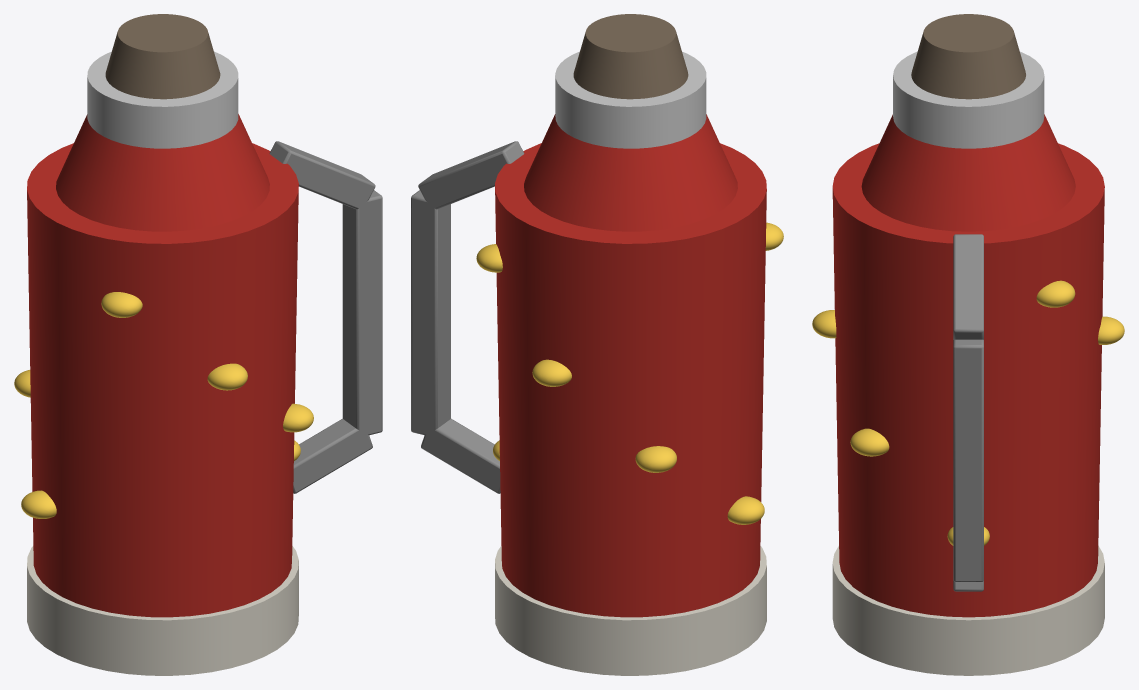
The model's file is BinhThuy_Phich.glb.
3 views of the same model, side by side, from view 1: azimuth 30°, elevation 25°; view 2: azimuth 150°, elevation 25°; view 3: azimuth 270°, elevation 25° (orthographic).
Parts seen in each view (by area): view 1: BinhThuy_Phich; view 2: BinhThuy_Phich; view 3: BinhThuy_Phich.
Part boxes in pixels (box(x1,y1,x2,y2)): BinhThuy_Phich: box(14, 14, 382, 675); BinhThuy_Phich: box(411, 14, 783, 675); BinhThuy_Phich: box(812, 14, 1124, 675).
Bounding box in the file's own units: 0.2613 × 0.42 × 0.2033.
